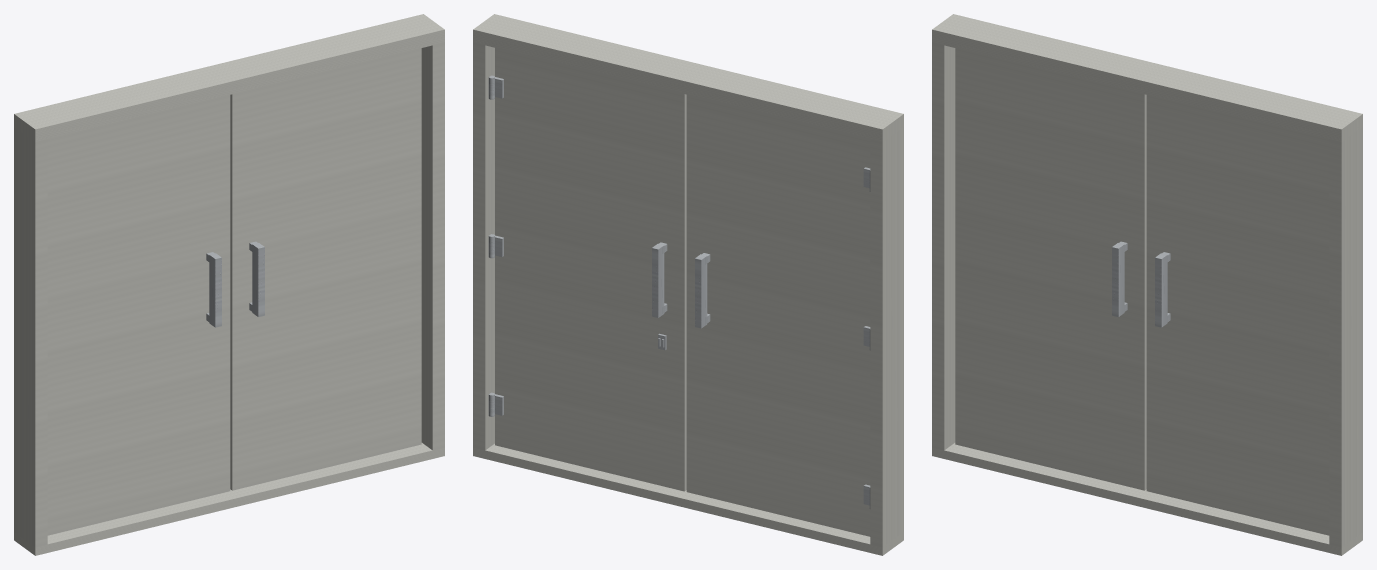
Rendered from door-steel-2.glb.
The picture shows the model from 3 angles, left to right: view 1: azimuth 30°, elevation 25°; view 2: azimuth 150°, elevation 25°; view 3: azimuth 330°, elevation 25°; orthographic projection.
Visible parts, largest first — view 1: passenger-swing-door (×2), DoorSteel2; view 2: passenger-swing-door (×2), DoorSteel2; view 3: passenger-swing-door (×2), DoorSteel2.
Boxes of the visible parts, x1=… form: passenger-swing-door (×2): x1=47, y1=48, x2=421, y2=535; DoorSteel2: x1=14, y1=14, x2=444, y2=555; passenger-swing-door (×2): x1=488, y1=48, x2=870, y2=536; DoorSteel2: x1=473, y1=14, x2=903, y2=555; passenger-swing-door (×2): x1=955, y1=48, x2=1329, y2=535; DoorSteel2: x1=932, y1=14, x2=1362, y2=555.
Size of the model in its own units: 2 by 1.99 by 0.19.
Materials: 2 (2 with a texture image).
